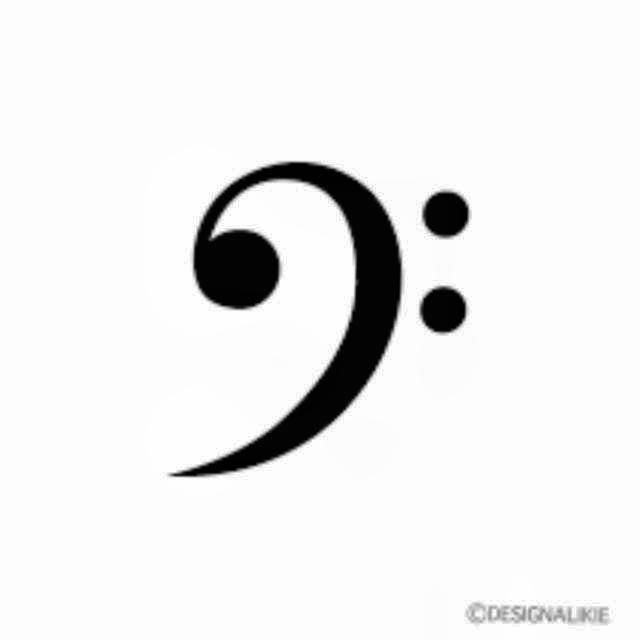Bass-clef: (142, 144, 492, 484)
